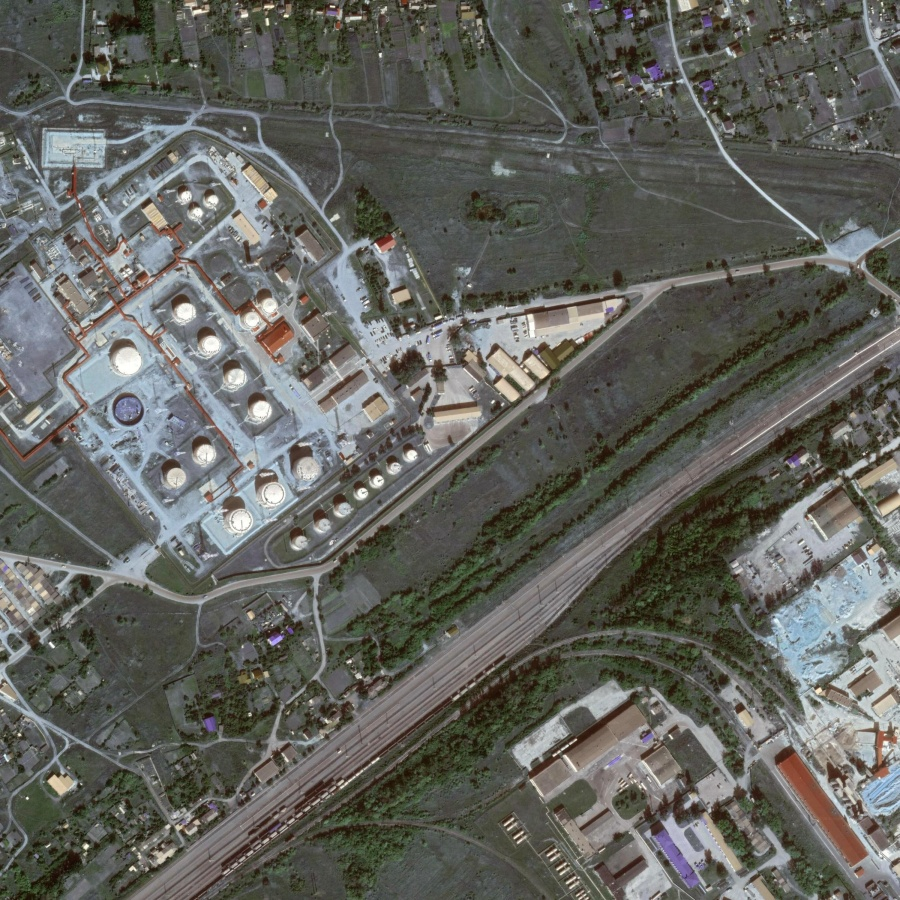PowerPlant: (111, 261, 424, 552)
